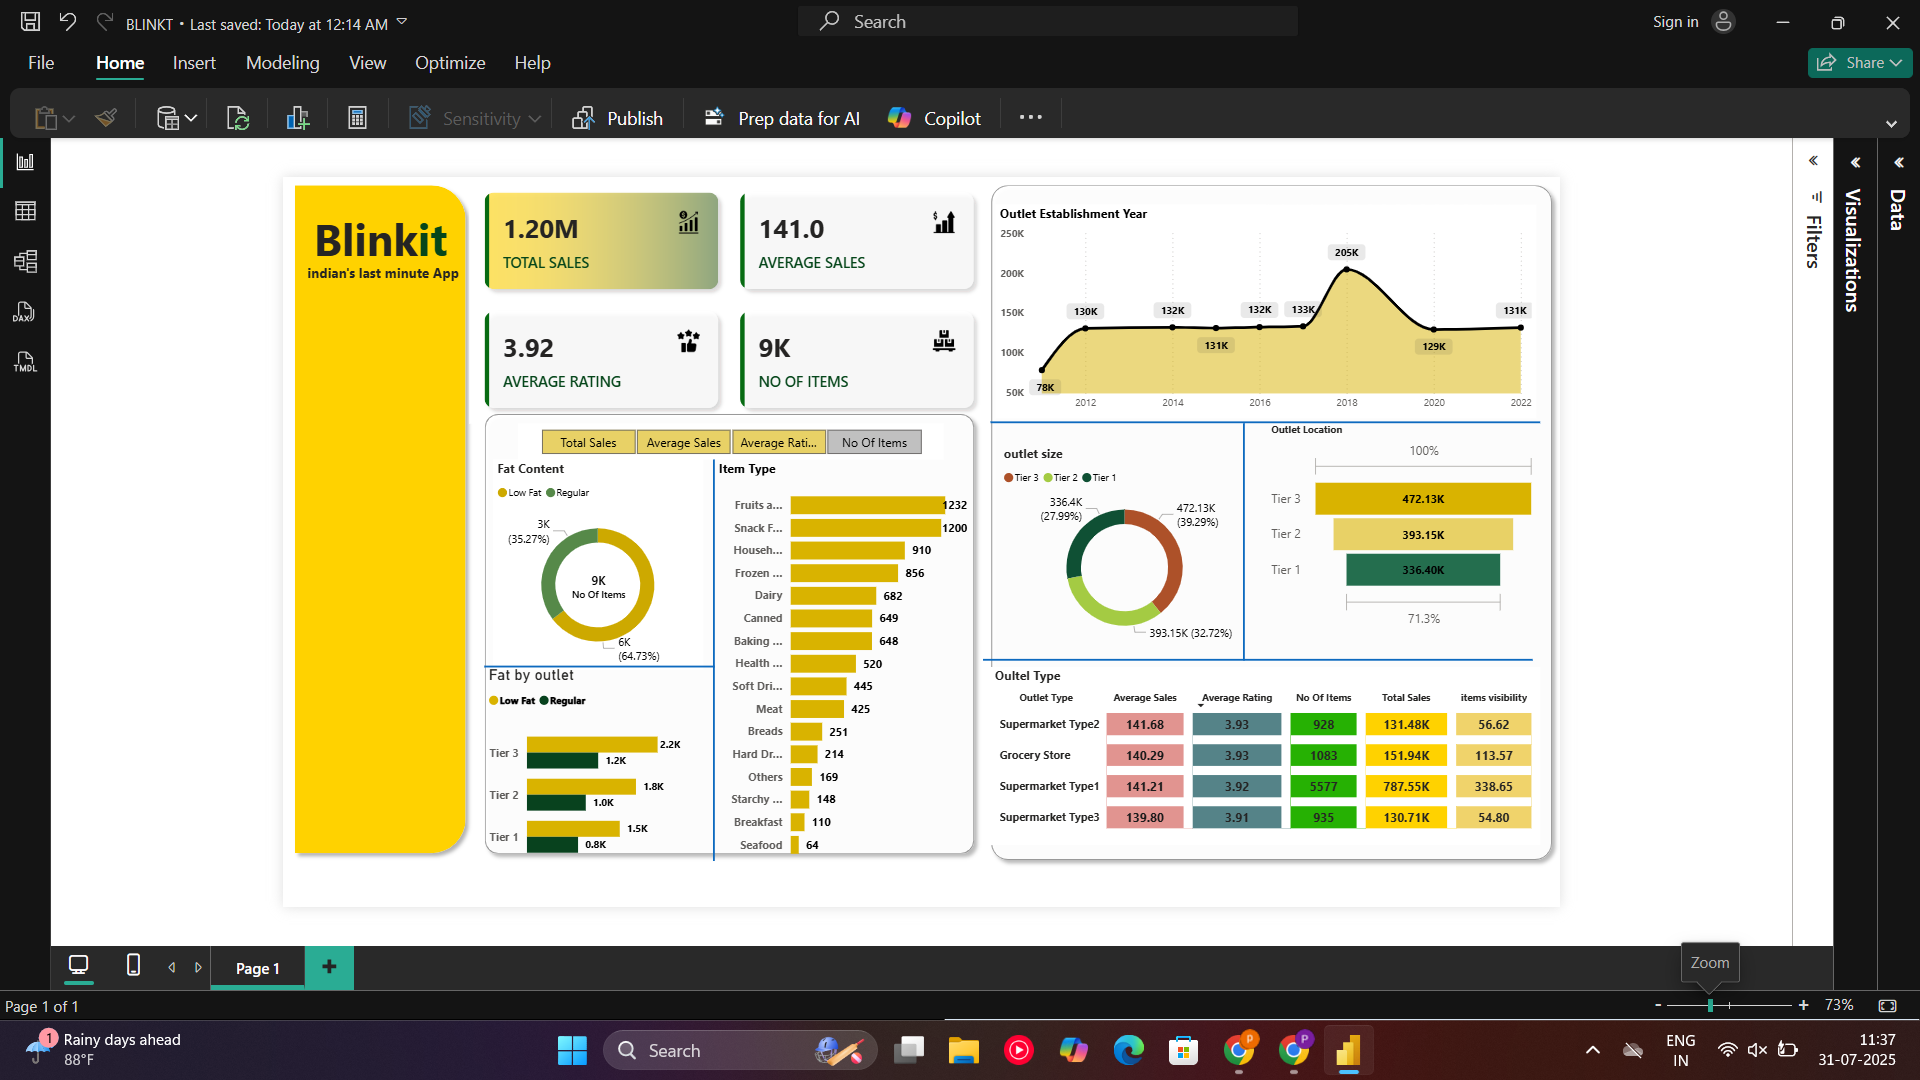

Layout of this report page (visuals, bound fields, positions):
{"tool":"powerbi","page":{"name":"Page 1","canvas":[1400,800],"ordinal":0},"visuals":[{"type":"shape","box":[4,0,205,750],"z":0},{"type":"textbox","box":[262.9,564.3,421.4,185.7],"z":1000},{"type":"textbox","box":[21.7,30,170,75],"z":2000},{"type":"textbox","box":[21.7,90,193.3,30],"z":3000},{"type":"cardVisual","fields":{"Data":["BlinkIT Grocery Data.Total Sales","BlinkIT Grocery Data.Average Sales","BlinkIT Grocery Data.Average Rating","BlinkIT Grocery Data.No Of Items"]},"box":[204,0,570,270],"z":4000},{"type":"shape","box":[212,250,554,500],"z":5000},{"type":"donutChart","title":" Fat Content","fields":{"Y":["BlinkIT Grocery Data.No Of Items"],"Category":["BlinkIT Grocery Data.Item Fat Content"]},"box":[230,310,230,230],"z":6000},{"type":"slicer","fields":{"Values":["Metrics.Metrics"]},"box":[258,270,466,40],"z":7000},{"type":"cardVisual","fields":{"Data":["BlinkIT Grocery Data.No Of Items"]},"box":[284.4,407.8,122.2,80],"z":8000},{"type":"clusteredBarChart","title":"Fat by outlet","fields":{"Y":["BlinkIT Grocery Data.No Of Items"],"Category":["BlinkIT Grocery Data.Outlet Location Type"],"Series":["BlinkIT Grocery Data.Item Fat Content"]},"box":[220,535,220,230],"z":9000},{"type":"shape","box":[220,502.5,252.5,67.5],"z":10000},{"type":"shape","box":[440,310,65,440],"z":11000},{"type":"barChart","title":" Item Type","fields":{"Y":["BlinkIT Grocery Data.No Of Items"],"Category":["BlinkIT Grocery Data.Item Type"]},"box":[472.5,310,282.5,447.5],"z":12000},{"type":"shape","box":[767.5,0,632.5,757.5],"z":13000},{"type":"lineChart","title":" Outlet Establishment Year","fields":{"Category":["BlinkIT Grocery Data.Outlet Establishment Year"],"Y":["BlinkIT Grocery Data.Total Sales"]},"box":[785,30,592.5,235],"z":14000},{"type":"shape","box":[775,215,602.5,107.5],"z":15000},{"type":"donutChart","title":"outlet size","fields":{"Y":["BlinkIT Grocery Data.Total Sales"],"Category":["BlinkIT Grocery Data.Outlet Location Type"]},"box":[785,292.5,275,225],"z":16000},{"type":"shape","box":[1020,270,65,260],"z":17000},{"type":"funnel","title":" Outlet Location ","fields":{"Y":["Sum(BlinkIT Grocery Data.Sales)"],"Category":["BlinkIT Grocery Data.Outlet Location Type"]},"box":[1077.5,270,300,230],"z":18000},{"type":"shape","box":[767.5,475,602.5,107.5],"z":19000},{"type":"pivotTable","title":"Oultel Type","fields":{"Rows":["BlinkIT Grocery Data.Outlet Type"],"Values":["BlinkIT Grocery Data.Average Sales","BlinkIT Grocery Data.Average Rating","BlinkIT Grocery Data.No Of Items","BlinkIT Grocery Data.Total Sales","Sum(BlinkIT Grocery Data.Item Visibility)"]},"box":[775,537.5,602.5,195],"z":20000}]}

Visuals, with their boxes on the page's 1400x800 design canvas (x1, y1, x2, y2). These are canvas units, not pixel positions in the 1920x1080 screenshot, which may show the page scaled, cropped or inside an application window:
shape: <box>4,0,209,750</box>
textbox: <box>263,564,684,750</box>
textbox: <box>22,30,192,105</box>
textbox: <box>22,90,215,120</box>
cardVisual - BlinkIT Grocery Data.Total Sales x BlinkIT Grocery Data.Average Sales: <box>204,0,774,270</box>
shape: <box>212,250,766,750</box>
" Fat Content" donutChart: <box>230,310,460,540</box>
slicer - Metrics.Metrics: <box>258,270,724,310</box>
cardVisual - BlinkIT Grocery Data.No Of Items: <box>284,408,407,488</box>
"Fat by outlet" clusteredBarChart: <box>220,535,440,765</box>
shape: <box>220,502,472,570</box>
shape: <box>440,310,505,750</box>
" Item Type" barChart: <box>472,310,755,758</box>
shape: <box>768,0,1400,758</box>
" Outlet Establishment Year" lineChart: <box>785,30,1378,265</box>
shape: <box>775,215,1378,322</box>
"outlet size" donutChart: <box>785,292,1060,518</box>
shape: <box>1020,270,1085,530</box>
" Outlet Location " funnel: <box>1078,270,1378,500</box>
shape: <box>768,475,1370,582</box>
"Oultel Type" pivotTable: <box>775,538,1378,732</box>
